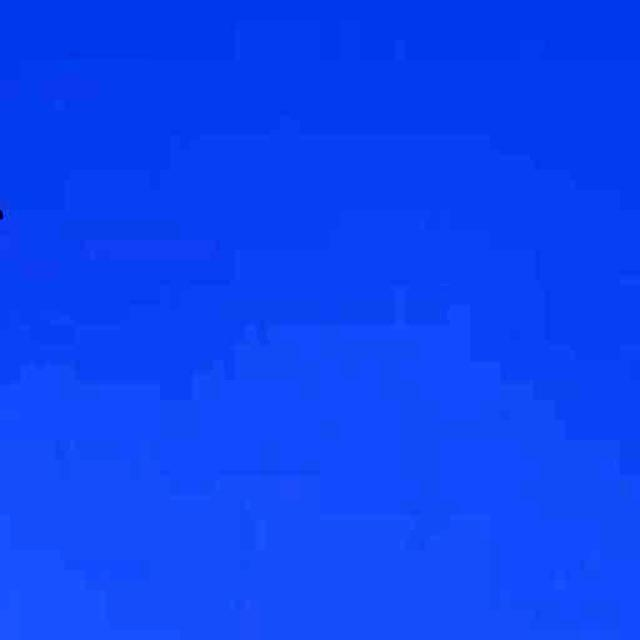airplane: (0, 0, 41, 386)
